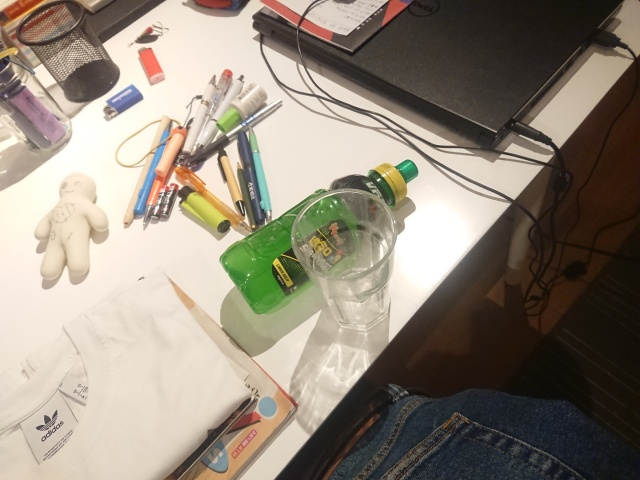Vindi Iso Sport Lemon-Grapefruit 500mL: (217, 157, 421, 317)
